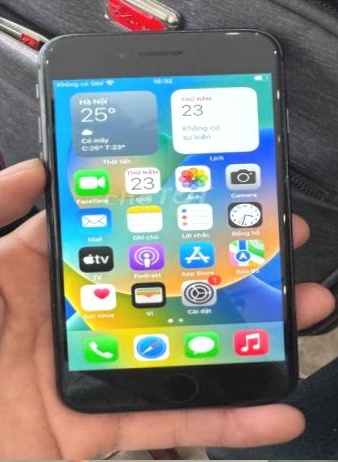scratch: (182, 21, 283, 55), (33, 37, 62, 67)
